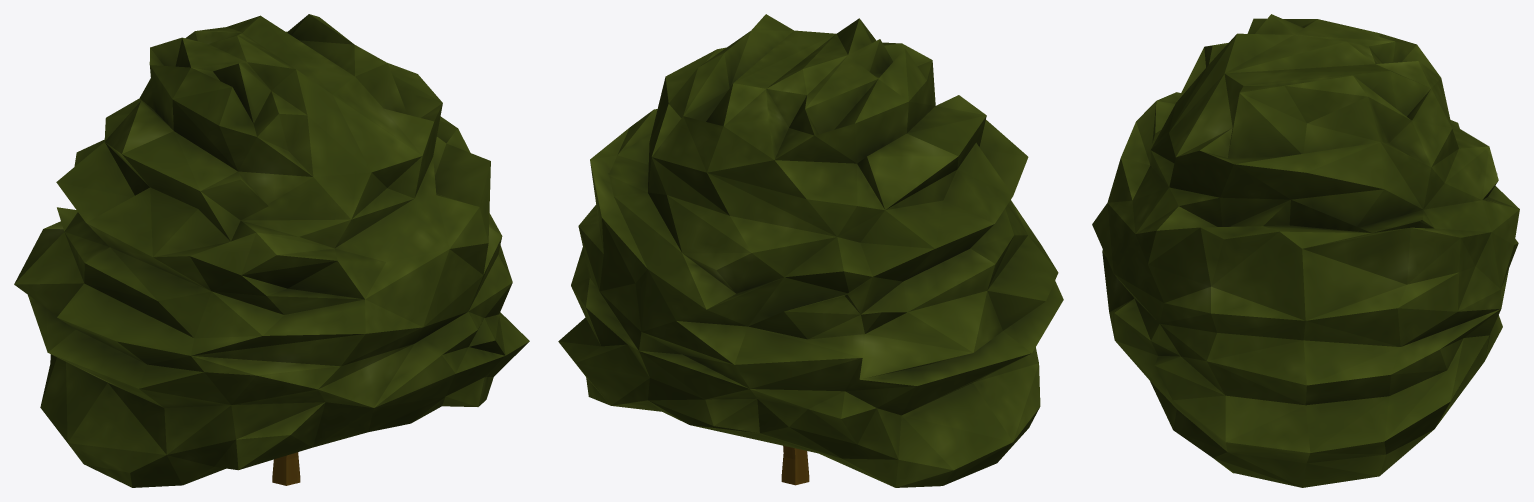
Rendered from sycamore.glb.
3 views of the same model, side by side, from view 1: azimuth 30°, elevation 25°; view 2: azimuth 150°, elevation 25°; view 3: azimuth 270°, elevation 25° (orthographic). The views are drawn at different scales.
Visible parts, largest first — view 1: node-0; view 2: node-0; view 3: node-0.
Boxes of the visible parts, x1,y1,x2,y2 form: node-0: (14,14,529,487); node-0: (558,14,1063,487); node-0: (1092,14,1519,487).
Size of the model in its own units: 13.93 by 13.07 by 12.1.
1 material, 1 textured.
